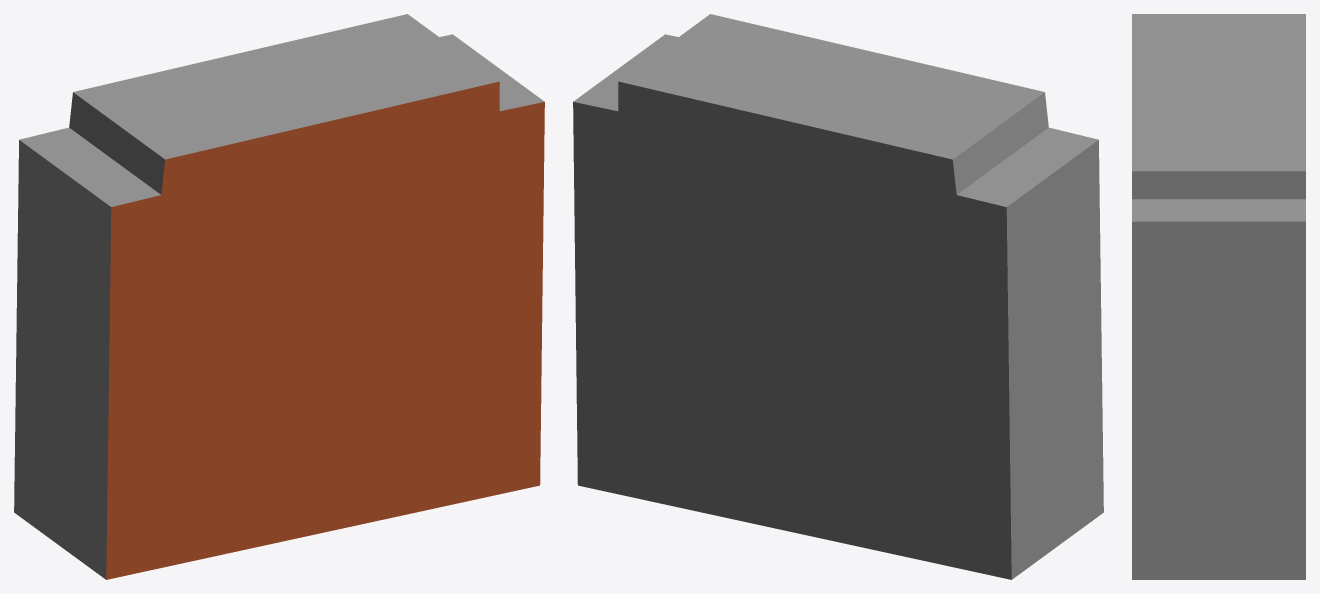
The model's file is construction_0893_assumed_A_Casa_h6m.obj.
3 renders of one model, left to right at view 1: azimuth 30°, elevation 25°; view 2: azimuth 150°, elevation 25°; view 3: azimuth 270°, elevation 25°, orthographic. The views are drawn at different scales.
Visible parts, largest first — view 1: construction_0893_assumed_A_Casa; view 2: construction_0893_assumed_A_Casa; view 3: construction_0893_assumed_A_Casa.
Boxes of the visible parts, x1,y1,x2,y2 form: construction_0893_assumed_A_Casa: [14, 14, 544, 579]; construction_0893_assumed_A_Casa: [573, 14, 1103, 579]; construction_0893_assumed_A_Casa: [1132, 14, 1305, 579].
Bounding box in the file's own units: 16.48 × 14.99 × 6.
